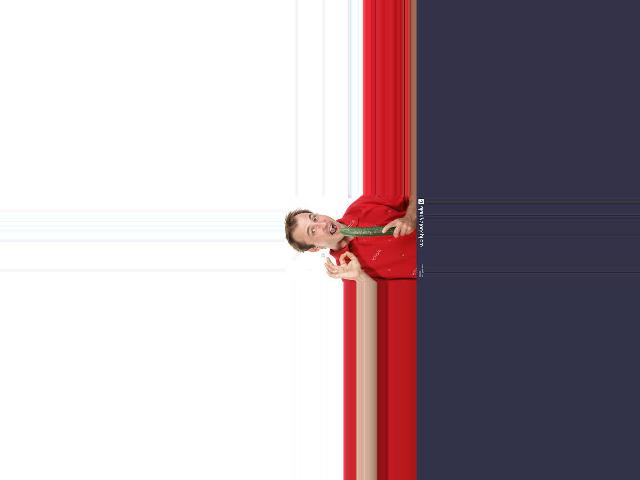cucumber: (339, 227, 394, 235)
